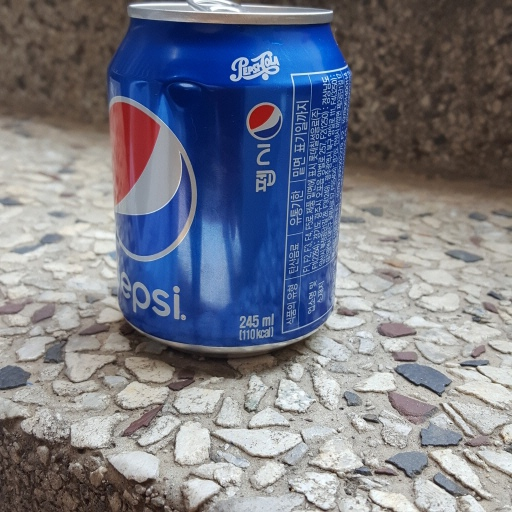Metal_0: (105, 2, 352, 352)
